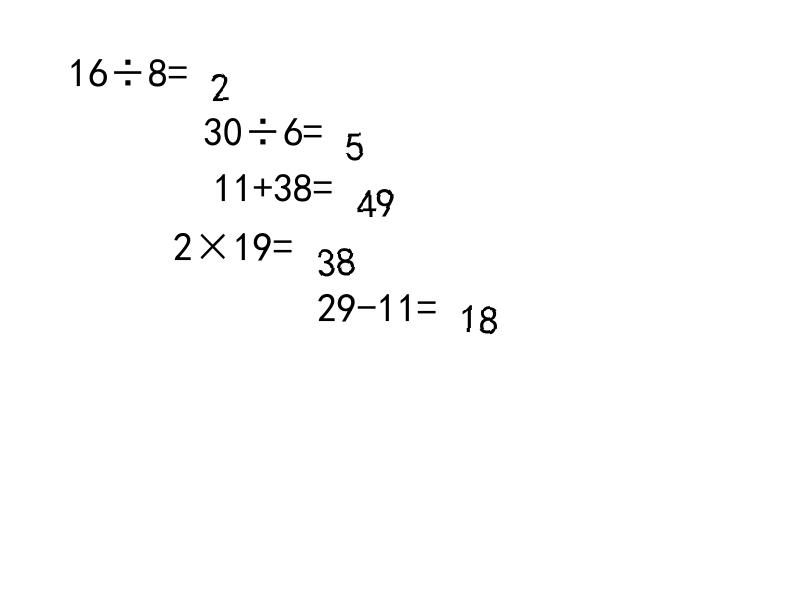+: (253, 167, 273, 196)
-: (357, 287, 377, 316)
0: (223, 111, 243, 141)
1: (213, 167, 233, 196), (233, 167, 253, 196), (233, 226, 253, 255), (377, 287, 397, 316), (397, 287, 417, 316), (447, 287, 467, 316), (68, 52, 88, 80)
2: (173, 226, 193, 255), (317, 287, 337, 316), (198, 52, 218, 80)
3: (203, 111, 223, 141), (273, 167, 293, 196), (303, 226, 323, 255)
4: (343, 167, 363, 196)
5: (333, 111, 353, 141)
6: (283, 111, 303, 141), (88, 52, 108, 80)
8: (293, 167, 313, 196), (323, 226, 343, 255), (467, 287, 487, 316), (148, 52, 168, 80)
9: (363, 167, 383, 196), (253, 226, 273, 255), (337, 287, 357, 316)
=: (303, 111, 323, 141), (313, 167, 333, 196), (273, 226, 293, 255), (417, 287, 437, 316), (168, 52, 188, 80)
×: (193, 226, 233, 255)
÷: (243, 111, 283, 141), (108, 52, 148, 80)
